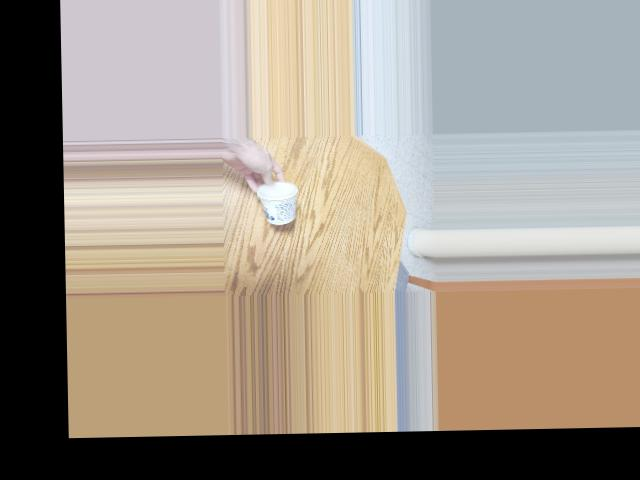cotage: (255, 174, 302, 219)
